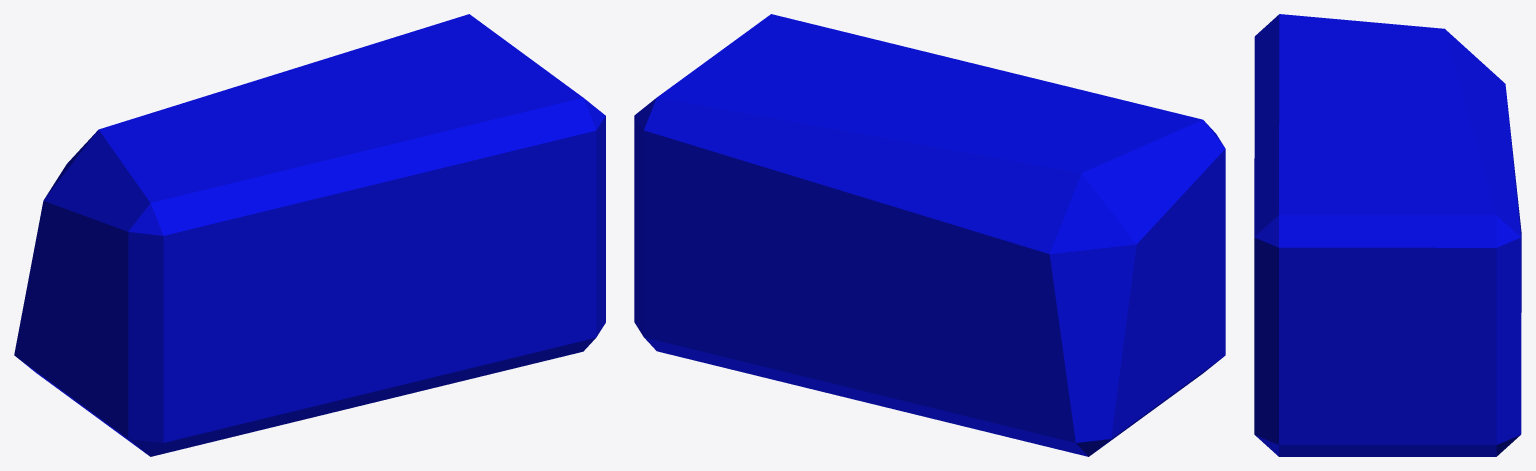
Rendered from SM_Small_QuarryStone3.fbx.
3 renders of one model, left to right at view 1: azimuth 30°, elevation 25°; view 2: azimuth 150°, elevation 25°; view 3: azimuth 270°, elevation 25°, orthographic. The views are drawn at different scales.
Parts seen in each view (by area): view 1: SM_Small_QuarryStone3; view 2: SM_Small_QuarryStone3; view 3: SM_Small_QuarryStone3.
Part boxes in pixels (x1,y1,x2,y2): SM_Small_QuarryStone3: (14, 14, 605, 456); SM_Small_QuarryStone3: (634, 14, 1225, 456); SM_Small_QuarryStone3: (1254, 14, 1521, 456).
Bounding box in the file's own units: 67.93 × 34.72 × 34.59.
